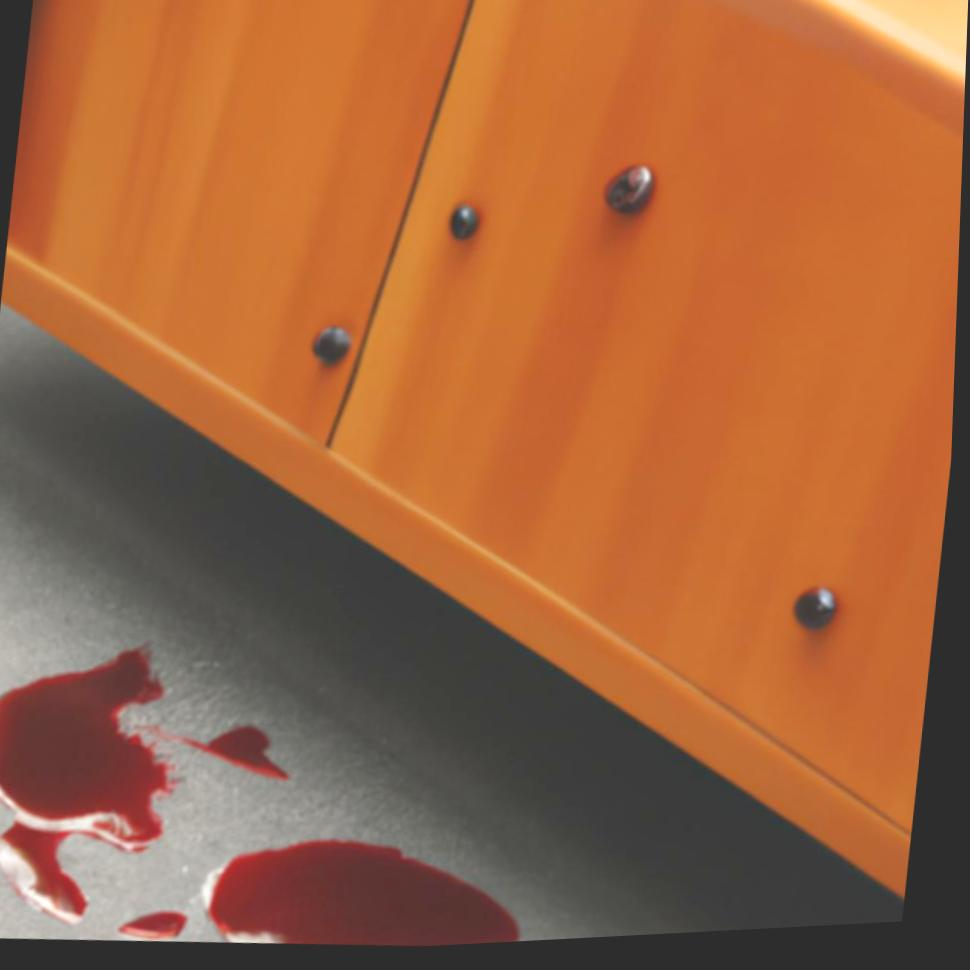Fire: (0, 642, 187, 924), (215, 842, 527, 951), (186, 728, 297, 783), (124, 912, 195, 941)
